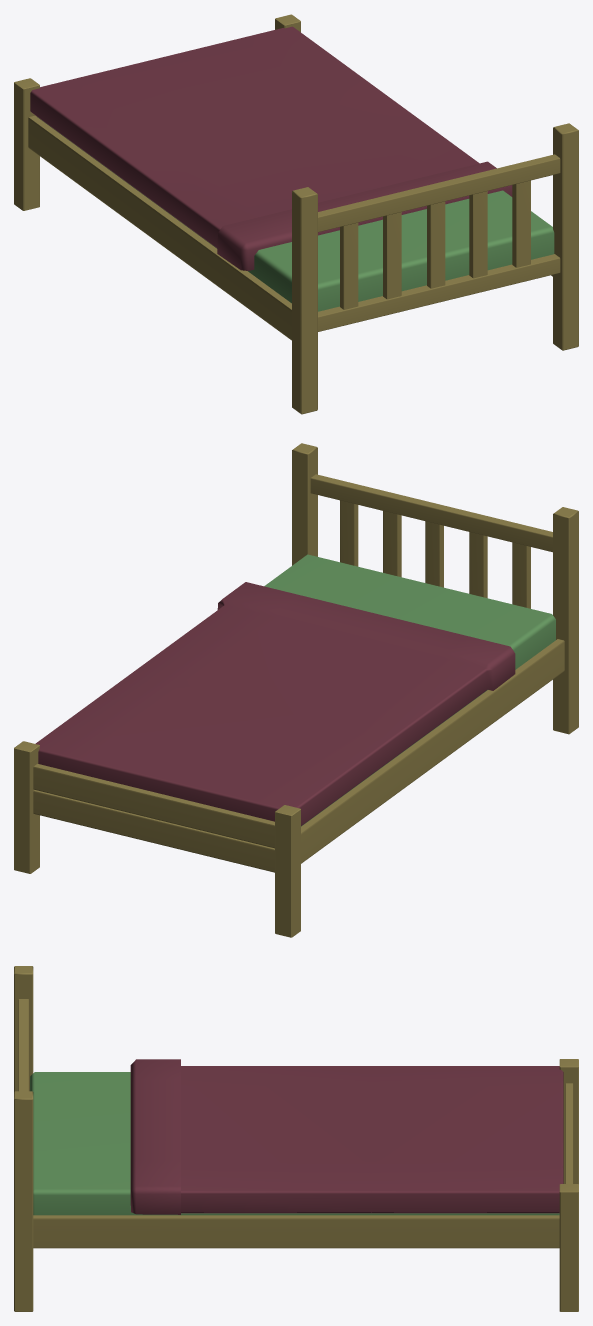
Rendered from cama.fbx.
3 views of the same model, one above another, from view 1: azimuth 30°, elevation 25°; view 2: azimuth 150°, elevation 25°; view 3: azimuth 270°, elevation 25° (orthographic).
Visible parts, largest first — view 1: cama2; view 2: cama2; view 3: cama2.
Part boxes in pixels (x1=…): cama2: x1=14, y1=14, x2=578, y2=414; cama2: x1=14, y1=443, x2=578, y2=937; cama2: x1=14, y1=966, x2=578, y2=1311.
Size of the model in its own units: 114 by 85 by 204.
